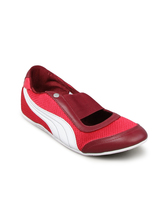shoes: (12, 63, 150, 157)
